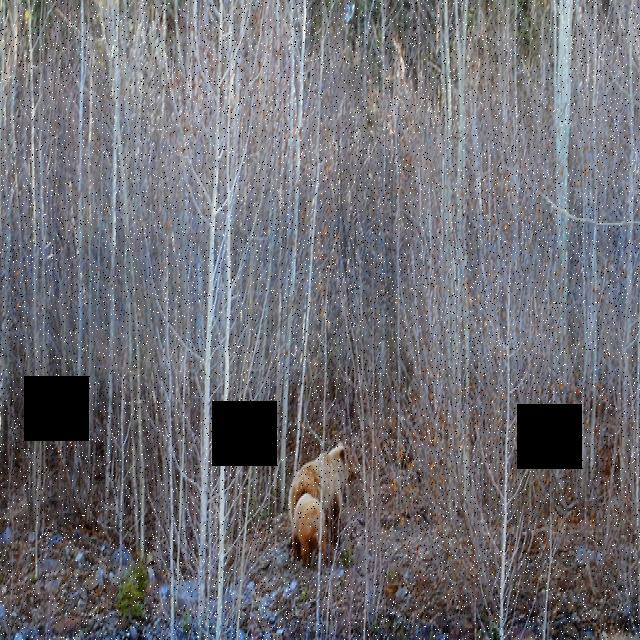Bear: (281, 435, 355, 549)
